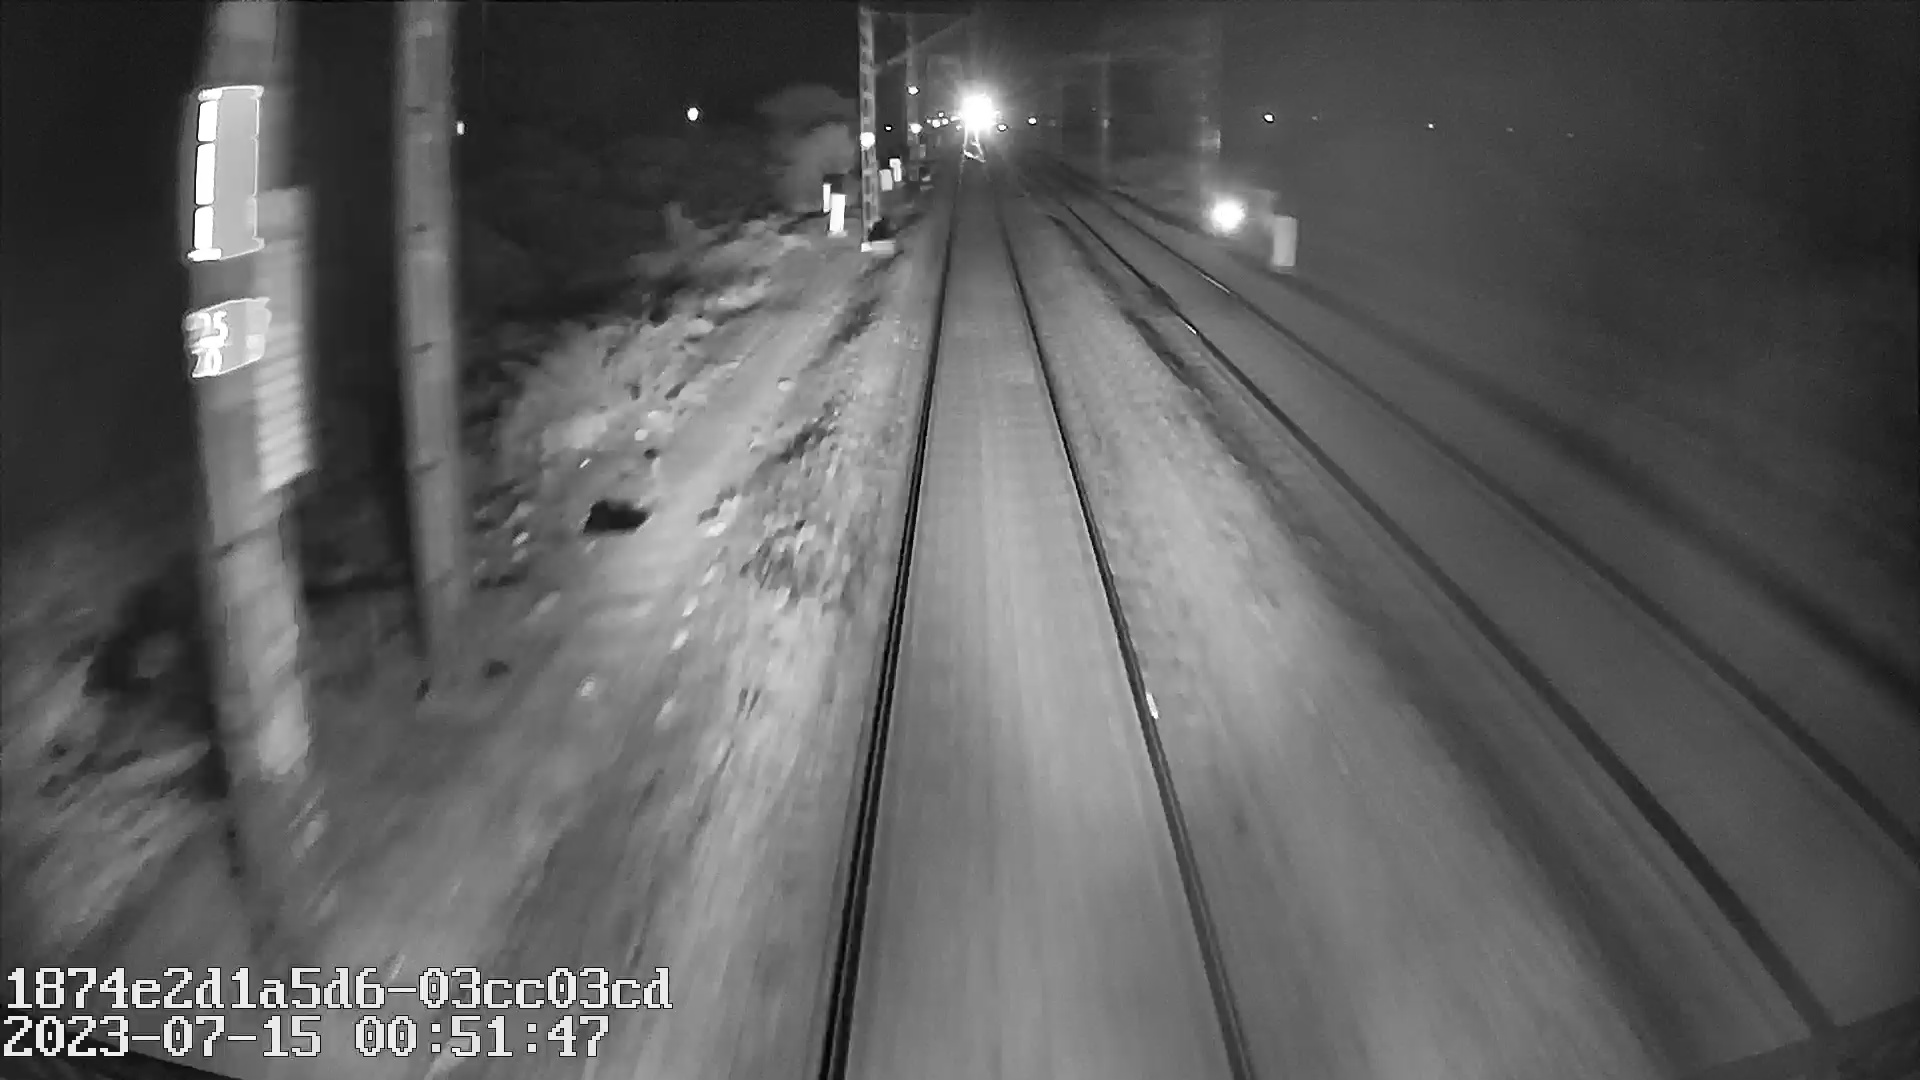track1: (837, 193, 1241, 1059)
track2: (1069, 200, 1908, 941)
